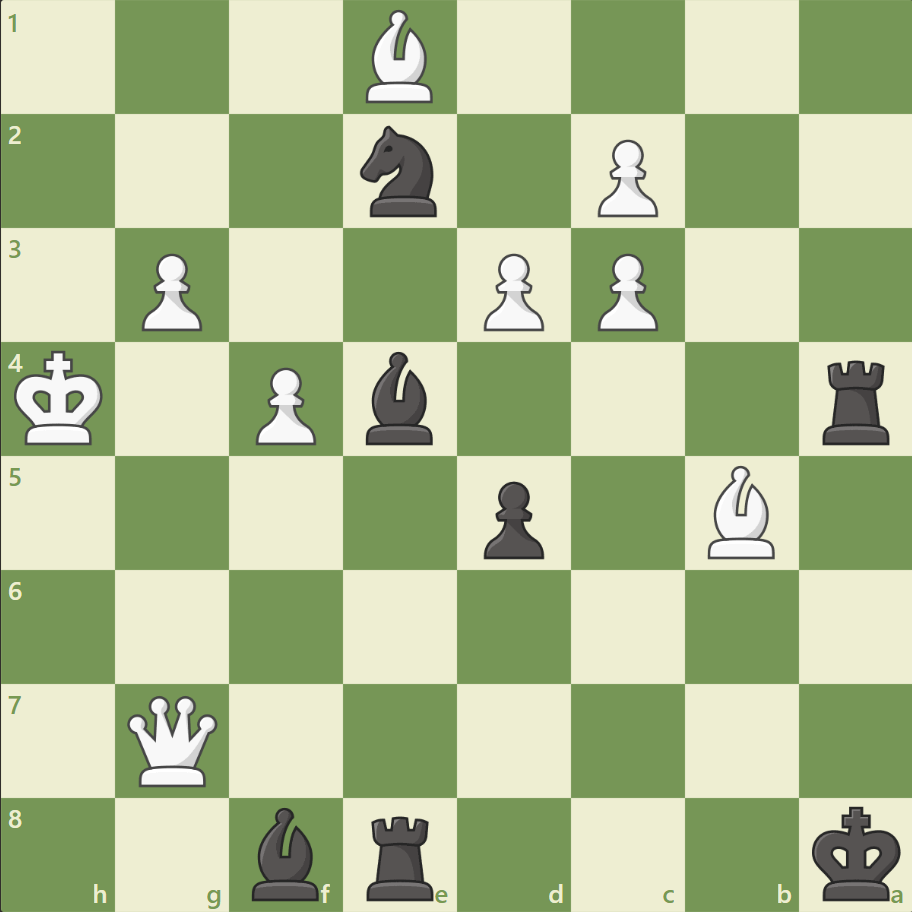B: (698, 460, 782, 563), (358, 6, 442, 109)
K: (11, 344, 111, 452)
P: (247, 359, 322, 450), (474, 246, 549, 337), (133, 246, 208, 337), (588, 246, 662, 337), (588, 132, 662, 223)
Q: (124, 690, 223, 789)
b: (244, 801, 328, 904), (358, 347, 442, 449)
k: (806, 798, 906, 906)
n: (351, 121, 449, 223)
p: (474, 473, 549, 564)
r: (814, 352, 897, 449), (360, 806, 442, 904)
